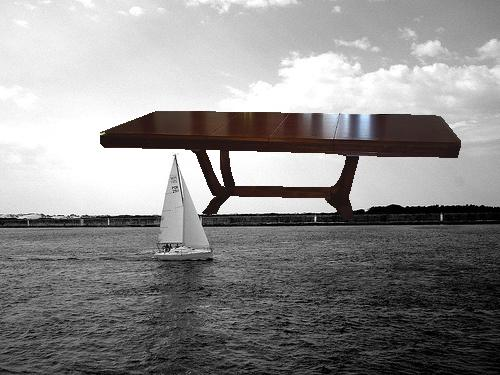tampered: (101, 112, 461, 219)
